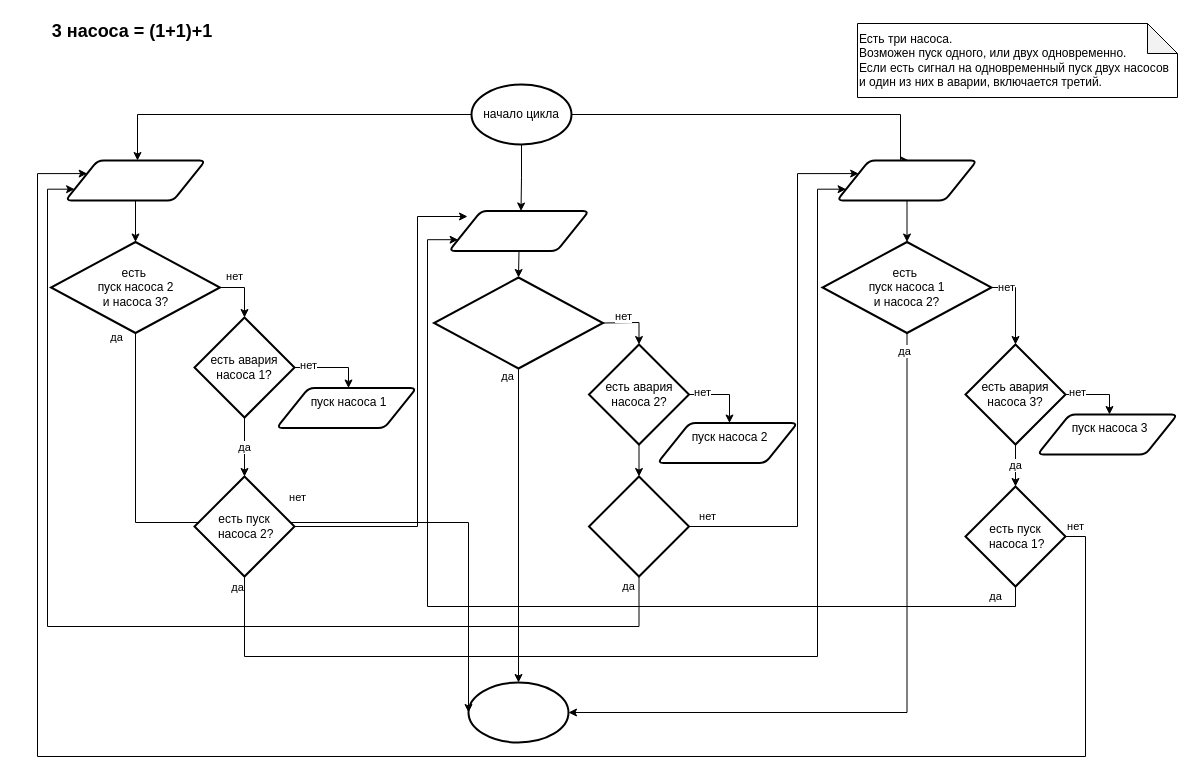
Some shapes in this 1195 by 782 pixel diagram are drawn without their labels. Each missing label, with the centre of its shape:
"есть пуск насоса 1 и насоса 3?" goes at point (518, 322).
"есть пуск насоса 3?" goes at point (639, 526).
"конец цикла" goes at point (518, 712).
"сигнал на пуск насоса 1" goes at point (135, 180).
"сигнал на пуск насоса 2" goes at point (519, 231).
"сигнал на пуск насоса 3" goes at point (907, 180).
